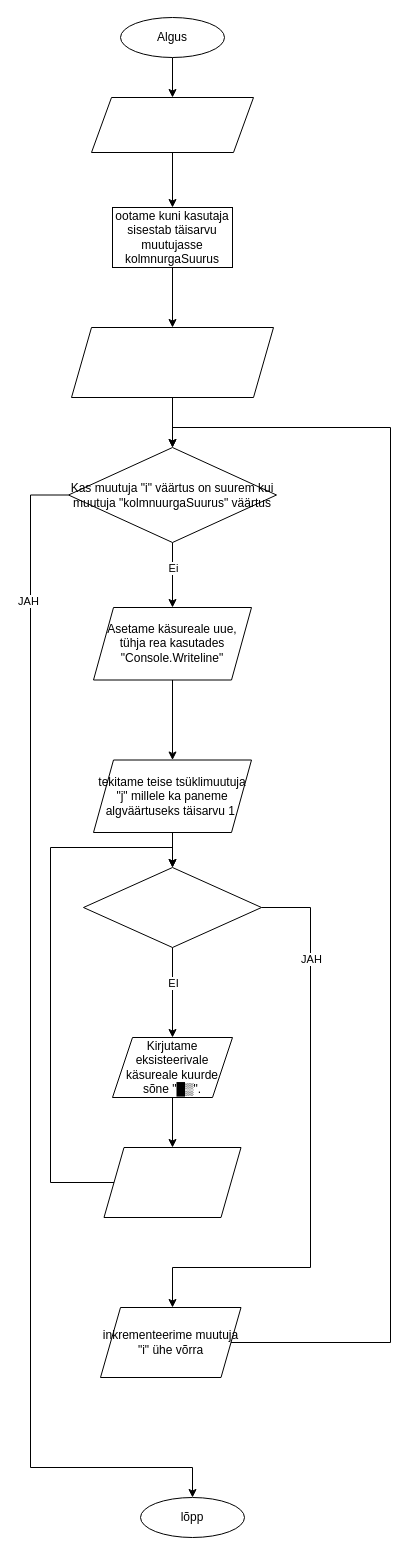
The diagram is 416 pixels wide and 1555 high, and some of its shapes have lost their labels. The shapes that lost their labels are listed below. From the top down, each one's box as (x1, y1, x2, y2) in pixels, then its label:
(90, 96, 254, 152): Kuva kasutajale tekst "joonista sulle kolmnurga
(70, 326, 274, 398): Tekitame tsükimuutuja "i" millele paneme algväärtuseks täisarvu 1
(82, 866, 262, 948): Kas muutuja "j" väärtus on suurem kui muutuja "i" väärtus
(103, 1146, 241, 1218): inkrementeerime muutujat "j" ühe võrra
